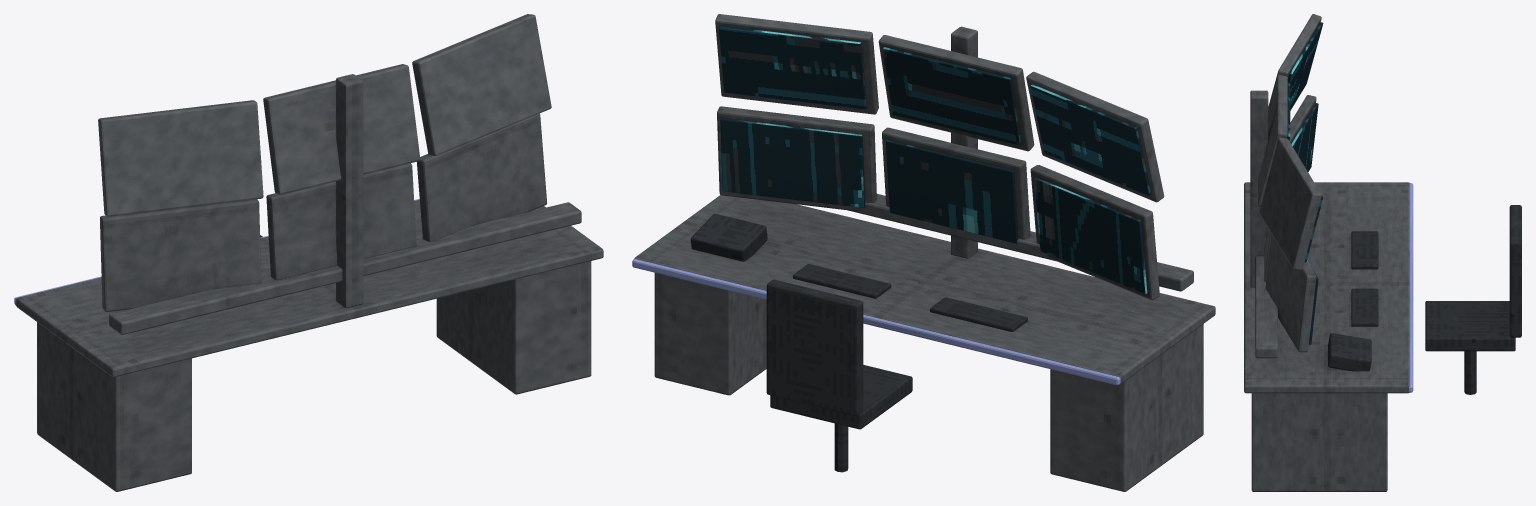
File: base_trader_desk.glb
The picture shows the model from 3 angles, left to right: view 1: azimuth 30°, elevation 25°; view 2: azimuth 150°, elevation 25°; view 3: azimuth 270°, elevation 25°; orthographic projection. The views are drawn at different scales.
Parts seen in each view (by area): view 1: base_trader_desk; view 2: base_trader_desk; view 3: base_trader_desk.
Part boxes in pixels (x1,y1,x2,y2): base_trader_desk: (14, 14, 603, 491); base_trader_desk: (632, 14, 1215, 491); base_trader_desk: (1244, 14, 1521, 491).
Size of the model in its own units: 3.2 by 2.2 by 1.84.
Materials: 4 (4 with a texture image).
